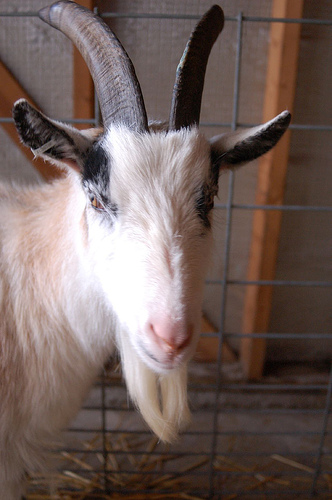goat: (1, 2, 293, 500)
